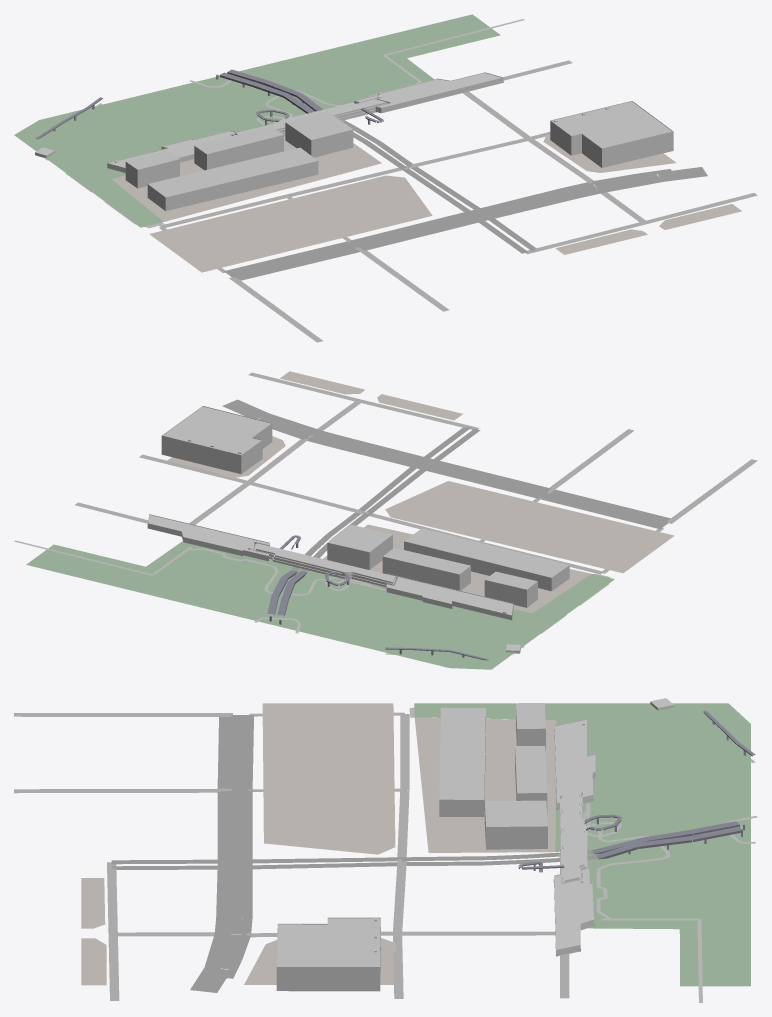
3 renders of one model, top to bottom at view 1: azimuth 30°, elevation 25°; view 2: azimuth 150°, elevation 25°; view 3: azimuth 270°, elevation 25°, orthographic. The views are drawn at different scales.
Bounding box in the file's own units: 538 × 23.23 × 555.
